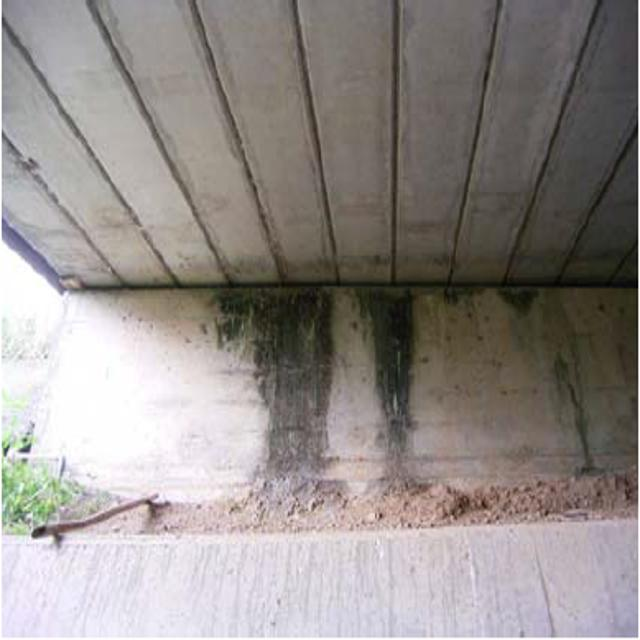leakage: (223, 282, 338, 502), (358, 267, 423, 487), (504, 273, 543, 317)
